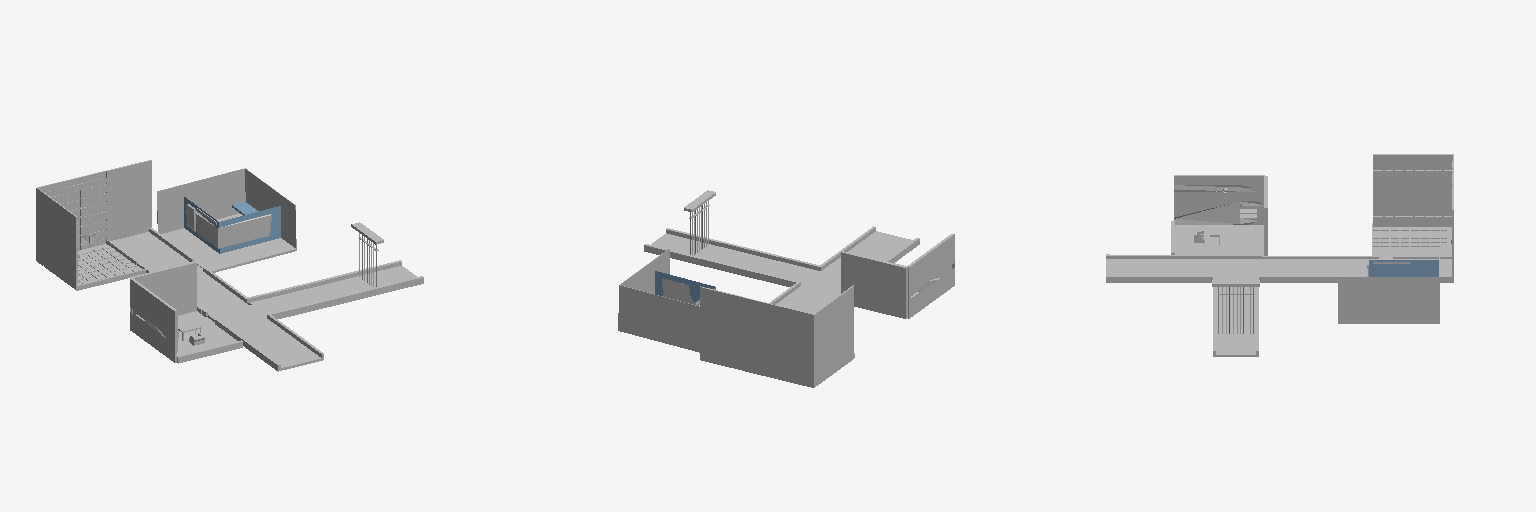
Rendered from deneme.obj.
3 renders of one model, left to right at view 1: azimuth 30°, elevation 25°; view 2: azimuth 150°, elevation 25°; view 3: azimuth 270°, elevation 25°, orthographic.
Parts seen in each view (by area): view 1: Cube.005, Outer wall 1, Cube.003, Cube.001, Cube.009, Ground, Cube.010, Cube.002, Outer wall 2, Cube.006, Prison cell, Cube.012 (+1 smaller); view 2: Cube.005, Cube.001, Outer wall 1, Cube.010, Cube.003, Cube.009, Outer wall 2, Prison cell; view 3: Cube.005, Cube.003, Outer wall 2, Cube.009, Cube.006, Cube.002, Prison cell, Cube.011, Cube.004.
Part boxes in pixels (bbox=[...]): Cube.005: bbox=[106, 160, 423, 370]; Outer wall 1: bbox=[157, 168, 245, 233]; Cube.003: bbox=[37, 188, 77, 290]; Cube.001: bbox=[36, 171, 106, 260]; Cube.009: bbox=[130, 278, 177, 362]; Ground: bbox=[162, 214, 295, 272]; Cube.010: bbox=[130, 261, 196, 315]; Cube.002: bbox=[37, 244, 142, 284]; Outer wall 2: bbox=[245, 168, 296, 250]; Cube.006: bbox=[176, 311, 236, 355]; Prison cell: bbox=[184, 197, 280, 253]; Cube.012: bbox=[218, 214, 271, 248]; Cube.005: bbox=[644, 226, 912, 370]; Cube.001: bbox=[744, 298, 814, 387]; Outer wall 1: bbox=[618, 285, 699, 352]; Cube.010: bbox=[841, 251, 907, 318]; Cube.003: bbox=[814, 285, 853, 385]; Cube.009: bbox=[907, 234, 954, 318]; Outer wall 2: bbox=[618, 248, 669, 324]; Prison cell: bbox=[655, 271, 715, 305]; Cube.005: bbox=[1106, 188, 1453, 356]; Cube.003: bbox=[1373, 154, 1452, 226]; Outer wall 2: bbox=[1338, 277, 1439, 323]; Cube.009: bbox=[1174, 175, 1264, 224]; Cube.006: bbox=[1175, 225, 1263, 258]; Cube.002: bbox=[1373, 227, 1451, 258]; Prison cell: bbox=[1369, 260, 1438, 276]; Cube.011: bbox=[1106, 254, 1258, 258]; Cube.004: bbox=[1262, 256, 1451, 258].
Size of the model in its own units: 6184 by 1638 by 6951.